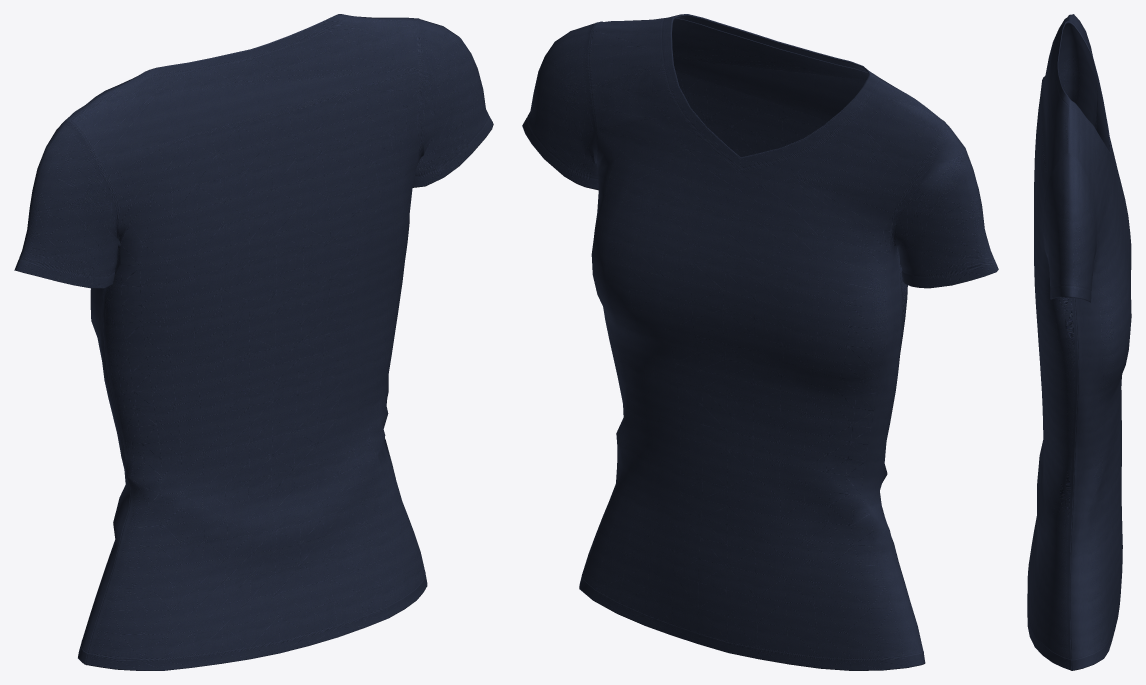
The model's file is T_Shirt_female004.fbx.
3 views of the same model, side by side, from view 1: azimuth 30°, elevation 25°; view 2: azimuth 150°, elevation 25°; view 3: azimuth 270°, elevation 25° (orthographic). The views are drawn at different scales.
Parts seen in each view (by area): view 1: T_Shirt_female004; view 2: T_Shirt_female004; view 3: T_Shirt_female004.
Part boxes in pixels (x1,y1,x2,y2): T_Shirt_female004: (14, 14, 493, 670); T_Shirt_female004: (522, 14, 998, 670); T_Shirt_female004: (1027, 14, 1131, 670).
Bounding box in the file's own units: 13.91 × 16.8 × 2.92.
